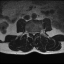CCS_normal: (33, 29, 34, 37)
LFS_stenosis: (36, 30, 37, 34)
LLS_stenosis: (34, 29, 36, 35)
RFS_stenosis: (29, 29, 31, 35)
RLS_stenosis: (31, 30, 33, 35)
